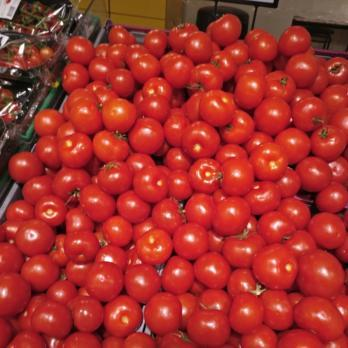Tomato: (64, 14, 348, 348), (0, 142, 80, 348)
